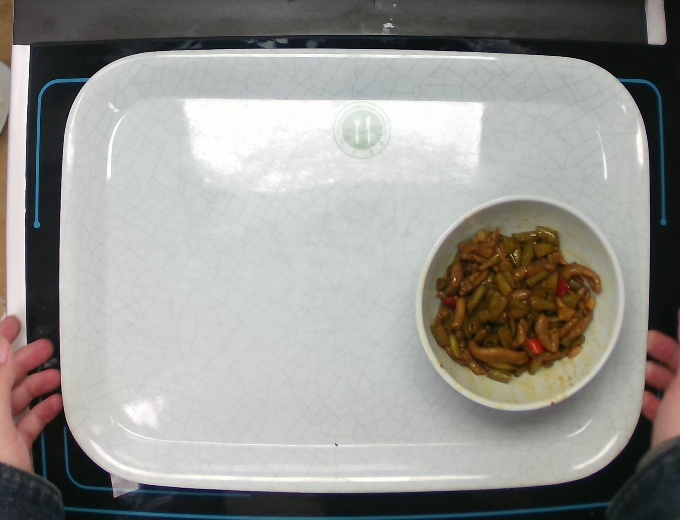JYsf-Fan_Wan: (409, 190, 630, 417)
